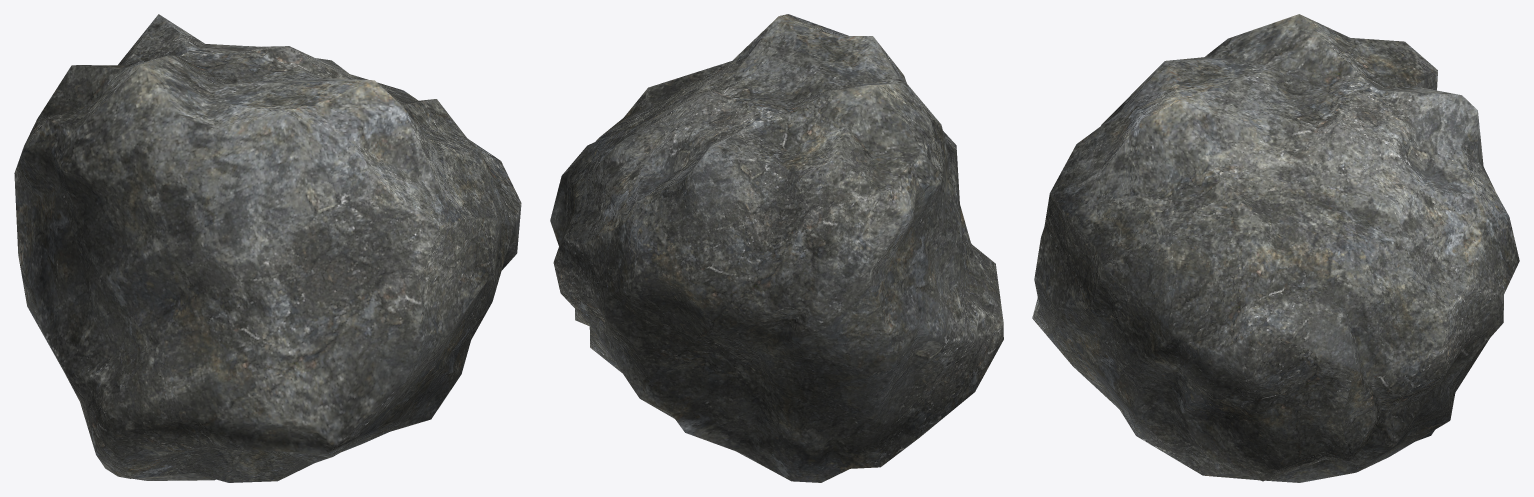
File: FallingRock01.dae
3 views of the same model, side by side, from view 1: azimuth 30°, elevation 25°; view 2: azimuth 150°, elevation 25°; view 3: azimuth 270°, elevation 25° (orthographic). The views are drawn at different scales.
Visible parts, largest first — view 1: FallingRock01; view 2: FallingRock01; view 3: FallingRock01.
Part boxes in pixels (bbox=[...]): FallingRock01: bbox=[14, 14, 521, 482]; FallingRock01: bbox=[550, 14, 1003, 482]; FallingRock01: bbox=[1032, 14, 1519, 482].
Bounding box in the file's own units: 149 × 148 × 139.
